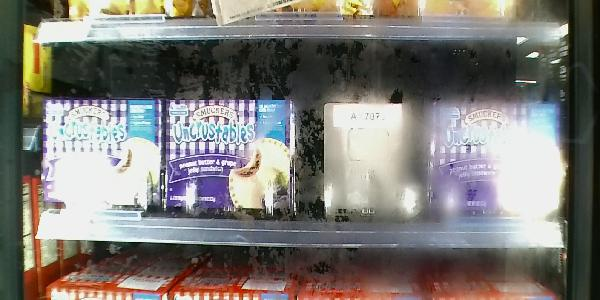icecream: (428, 99, 561, 219), (165, 99, 293, 219), (41, 99, 160, 211)
